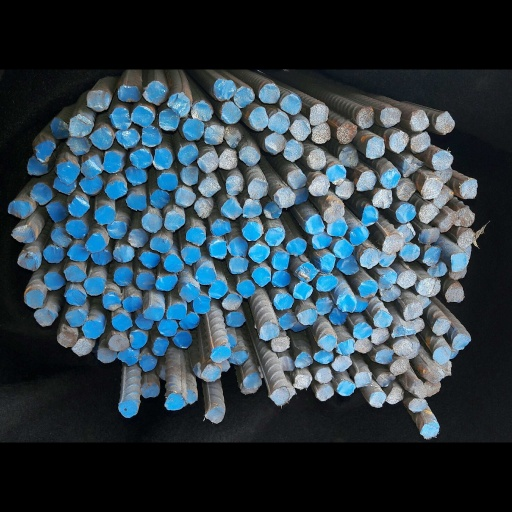dipstick: (143, 15, 167, 48), (68, 63, 93, 93), (85, 28, 110, 58), (132, 48, 154, 80), (55, 125, 80, 153), (167, 32, 189, 63), (183, 65, 203, 99), (90, 80, 113, 109), (116, 81, 139, 110), (175, 102, 198, 131), (213, 12, 236, 41), (409, 85, 432, 114), (109, 50, 131, 80), (64, 92, 91, 116), (29, 155, 52, 183), (103, 110, 123, 142), (355, 51, 375, 83), (33, 97, 55, 126), (264, 87, 286, 116), (290, 67, 311, 97), (49, 66, 69, 97), (157, 54, 177, 85), (203, 74, 223, 105), (268, 58, 288, 89), (409, 54, 429, 85), (378, 52, 400, 80), (338, 105, 360, 133), (220, 44, 241, 73), (308, 47, 329, 76), (248, 52, 267, 84), (284, 95, 303, 127), (128, 109, 152, 134), (259, 19, 279, 49), (16, 251, 40, 276), (6, 180, 32, 203), (124, 133, 147, 159), (93, 187, 116, 213), (241, 208, 264, 234), (85, 225, 107, 252), (104, 207, 126, 234), (192, 41, 211, 72), (68, 173, 89, 201), (24, 300, 45, 328), (62, 269, 86, 293), (10, 216, 36, 238), (44, 183, 66, 209), (43, 278, 65, 304), (81, 343, 103, 369), (418, 286, 440, 312), (84, 284, 105, 311), (332, 231, 353, 258), (436, 56, 453, 89), (141, 78, 161, 106), (126, 168, 146, 196), (234, 22, 254, 50), (305, 109, 325, 137), (50, 213, 70, 241), (420, 150, 440, 178), (26, 120, 49, 144), (117, 20, 140, 44), (322, 183, 345, 207), (337, 72, 356, 101), (366, 91, 385, 120), (222, 177, 241, 206), (80, 147, 102, 172), (173, 162, 195, 187), (226, 230, 248, 255), (80, 120, 101, 146), (238, 105, 259, 131), (127, 217, 148, 243), (313, 144, 330, 176), (281, 32, 299, 62), (141, 195, 161, 222), (286, 231, 306, 258), (247, 148, 267, 175), (305, 200, 325, 227), (179, 131, 198, 159), (252, 271, 271, 299), (360, 245, 379, 273), (111, 240, 134, 263), (431, 111, 453, 135), (338, 258, 360, 282), (105, 151, 126, 176), (258, 346, 279, 371), (396, 183, 417, 208), (390, 84, 408, 113), (381, 135, 399, 164), (149, 164, 169, 190), (326, 131, 346, 157), (42, 240, 62, 266), (195, 270, 215, 296), (207, 234, 227, 260), (264, 216, 284, 242), (224, 145, 244, 171), (223, 78, 242, 105), (373, 164, 392, 191), (455, 190, 474, 217), (200, 111, 217, 141), (56, 357, 78, 380), (64, 301, 86, 324), (157, 142, 178, 166), (65, 207, 86, 231), (32, 328, 53, 352), (111, 272, 132, 296), (227, 258, 248, 282), (135, 277, 155, 302), (241, 177, 261, 202), (296, 266, 316, 291), (382, 226, 402, 251), (396, 211, 416, 236), (152, 109, 171, 135), (274, 164, 293, 190), (408, 426, 427, 452), (361, 187, 378, 216), (312, 74, 330, 101), (165, 253, 183, 280), (186, 215, 204, 242), (270, 436, 288, 463), (66, 242, 88, 264), (197, 148, 219, 170), (309, 225, 331, 247), (401, 319, 423, 341), (156, 282, 177, 305), (65, 329, 85, 353), (111, 334, 131, 358), (249, 240, 269, 264), (327, 205, 347, 229), (159, 342, 178, 367), (167, 321, 186, 346), (180, 294, 199, 319), (333, 390, 352, 415), (420, 484, 439, 509), (218, 109, 236, 135), (164, 195, 182, 221), (272, 273, 290, 299), (402, 120, 420, 146), (337, 307, 355, 333), (457, 220, 475, 246), (460, 149, 476, 178), (108, 365, 130, 386), (117, 456, 138, 478), (315, 283, 336, 305), (312, 385, 334, 406), (419, 217, 440, 239), (150, 228, 169, 252), (118, 382, 137, 406), (336, 369, 355, 393), (52, 151, 77, 169), (202, 403, 220, 428), (288, 136, 306, 161), (318, 252, 336, 277), (432, 341, 450, 366), (359, 140, 376, 166), (402, 238, 419, 264), (89, 247, 110, 268), (221, 308, 242, 329), (269, 367, 290, 388), (296, 329, 317, 350), (134, 336, 154, 358), (165, 444, 185, 466), (273, 307, 293, 329), (103, 306, 122, 329), (293, 292, 312, 315), (377, 246, 396, 269), (128, 360, 146, 384), (180, 335, 198, 359), (205, 463, 223, 487), (209, 291, 227, 315), (181, 243, 199, 267), (398, 155, 416, 179), (294, 387, 312, 411), (316, 315, 334, 339), (359, 289, 377, 313), (397, 277, 415, 301), (330, 325, 347, 350), (434, 163, 451, 188), (71, 371, 91, 392), (97, 381, 117, 402), (138, 250, 159, 270), (194, 177, 209, 205), (211, 205, 231, 226), (352, 347, 372, 368), (379, 298, 400, 318), (210, 378, 229, 400), (152, 368, 168, 394), (272, 251, 290, 274), (335, 156, 353, 179), (350, 217, 368, 240), (318, 363, 336, 386), (353, 414, 371, 437), (390, 396, 408, 419), (139, 390, 156, 414), (140, 428, 157, 452), (264, 181, 281, 205), (294, 416, 311, 440), (446, 295, 463, 319), (438, 196, 453, 223), (225, 333, 245, 353), (424, 243, 440, 268), (390, 353, 415, 369), (449, 256, 468, 277), (377, 278, 396, 299), (123, 310, 141, 332), (336, 426, 354, 448), (393, 371, 411, 393), (175, 360, 192, 383), (355, 367, 372, 390), (433, 380, 450, 403), (293, 161, 308, 187), (193, 310, 209, 334), (420, 185, 436, 209), (145, 323, 164, 343), (427, 264, 446, 284), (375, 415, 394, 435), (406, 452, 427, 470), (279, 390, 294, 415), (371, 355, 388, 377), (415, 306, 432, 328), (439, 396, 452, 424), (238, 289, 253, 313), (370, 440, 385, 464), (374, 332, 392, 352), (230, 385, 247, 406), (436, 135, 453, 156), (315, 409, 332, 430), (278, 334, 294, 356), (424, 426, 440, 448), (453, 362, 468, 385), (243, 417, 261, 436), (424, 411, 442, 430), (317, 433, 333, 454), (156, 404, 170, 428), (387, 436, 402, 458), (237, 432, 258, 447), (225, 360, 238, 384), (183, 439, 197, 461), (289, 345, 308, 361), (409, 343, 425, 362), (354, 312, 367, 335), (448, 273, 465, 289), (410, 371, 420, 398), (448, 376, 459, 398), (286, 431, 295, 457), (217, 400, 229, 417)
